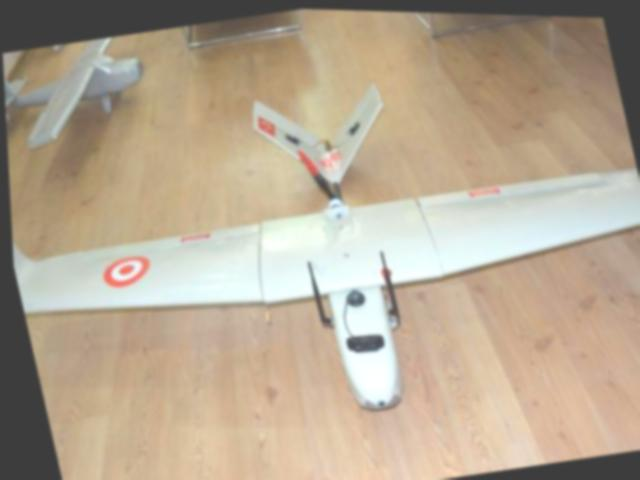iha: (1, 22, 640, 469)
